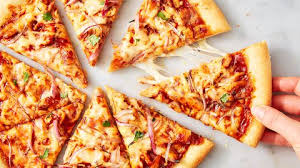pizza: (3, 2, 256, 168)
